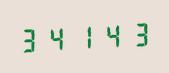four: (96, 19, 121, 51), (44, 22, 69, 53)
one: (70, 20, 95, 52)
three: (18, 23, 43, 55), (122, 18, 147, 49)
